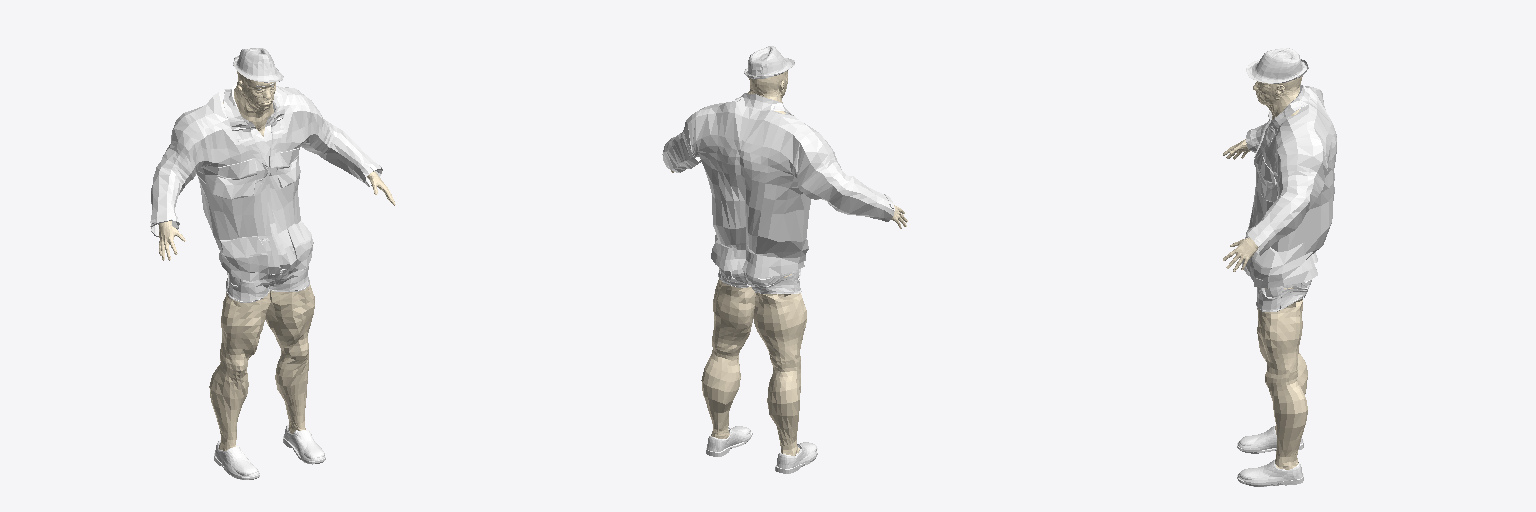
Rendered from TribeMan.obj.
3 views of the same model, side by side, from view 1: azimuth 30°, elevation 25°; view 2: azimuth 150°, elevation 25°; view 3: azimuth 270°, elevation 25° (orthographic).
Visible parts, largest first — view 1: jacket01.obj, base.obj, short01.obj, shoes01_hres.obj, shirt01.obj, fedora_cocked.obj, shoes02.obj; view 2: jacket01.obj, base.obj, short01.obj, fedora_cocked.obj, shoes01_hres.obj, shoes02.obj; view 3: jacket01.obj, base.obj, fedora_cocked.obj, short01.obj, shoes02.obj, shoes01_hres.obj.
Part boxes in pixels (left/top/right/bottom): jacket01.obj: left=150, top=83, right=382, bottom=281; base.obj: left=158, top=71, right=395, bottom=450; short01.obj: left=226, top=265, right=309, bottom=302; shoes01_hres.obj: left=214, top=424, right=325, bottom=479; shirt01.obj: left=225, top=92, right=294, bottom=269; fedora_cocked.obj: left=233, top=48, right=283, bottom=82; shoes02.obj: left=215, top=425, right=324, bottom=479; jacket01.obj: left=662, top=93, right=894, bottom=277; base.obj: left=671, top=71, right=907, bottom=455; short01.obj: left=718, top=268, right=801, bottom=293; fedora_cocked.obj: left=744, top=46, right=794, bottom=79; shoes01_hres.obj: left=706, top=426, right=817, bottom=473; shoes02.obj: left=707, top=429, right=816, bottom=468; jacket01.obj: left=1241, top=85, right=1336, bottom=288; base.obj: left=1223, top=76, right=1307, bottom=469; fedora_cocked.obj: left=1246, top=48, right=1308, bottom=83; short01.obj: left=1256, top=280, right=1311, bottom=311; shoes02.obj: left=1238, top=433, right=1302, bottom=486; shoes01_hres.obj: left=1237, top=426, right=1303, bottom=486.
Bounding box in the file's own units: 1.17 × 1.97 × 0.4986.